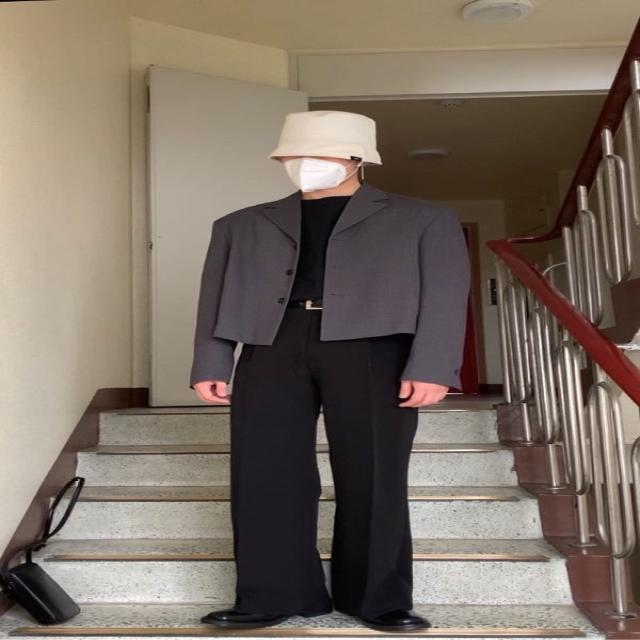blazer: (187, 188, 473, 392)
slacks: (227, 294, 428, 622)
